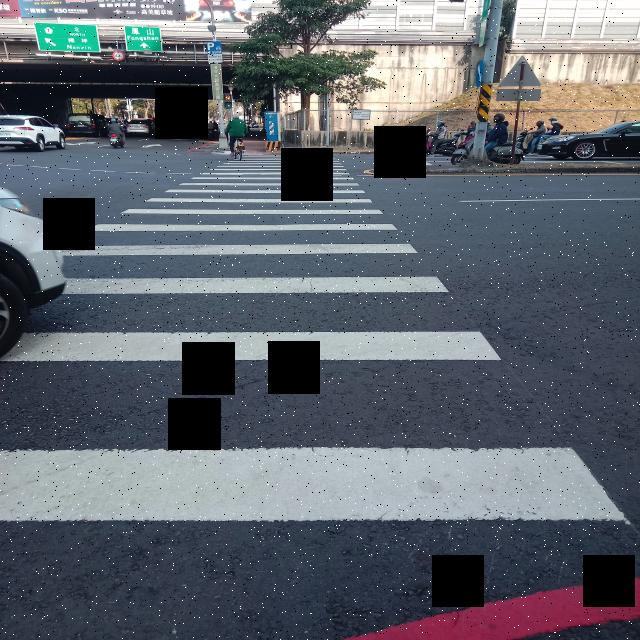zebra crossing: (0, 145, 634, 529)
